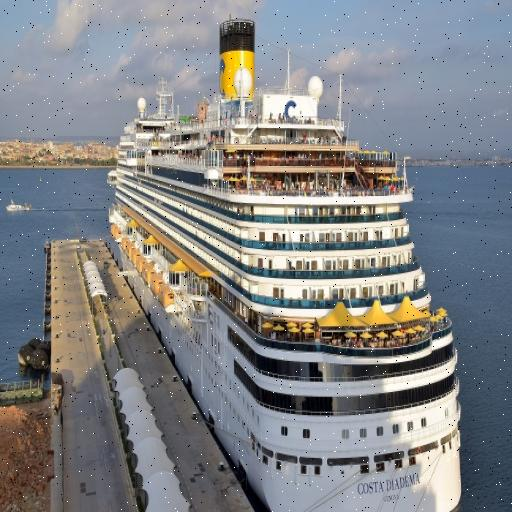cruises: (104, 13, 468, 512)
